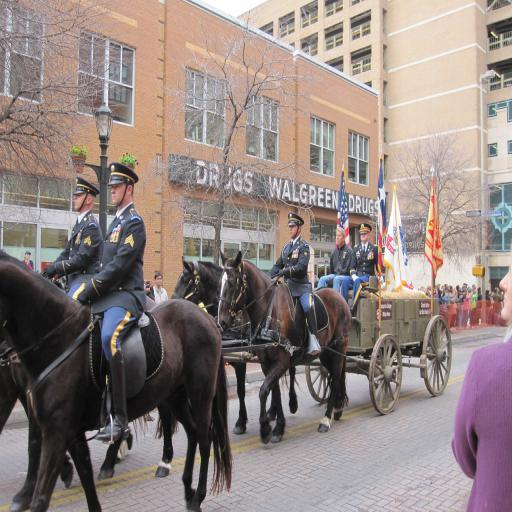Horse: (1, 250, 234, 512), (216, 250, 354, 444), (170, 254, 302, 437)
